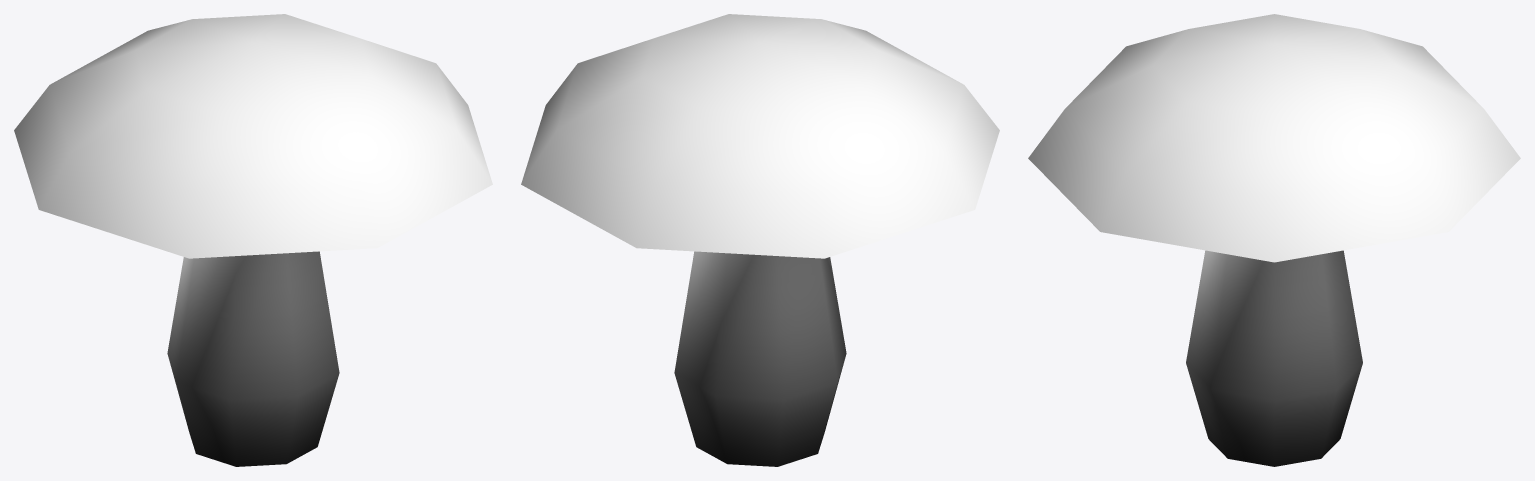
Rendered from MushroomSmallMesh01.fbx.
3 views of the same model, side by side, from view 1: azimuth 30°, elevation 25°; view 2: azimuth 150°, elevation 25°; view 3: azimuth 270°, elevation 25° (orthographic).
Parts seen in each view (by area): view 1: MushroomSmall01; view 2: MushroomSmall01; view 3: MushroomSmall01.
Part boxes in pixels (bbox=[...]): MushroomSmall01: bbox=[14, 14, 492, 466]; MushroomSmall01: bbox=[521, 14, 999, 466]; MushroomSmall01: bbox=[1028, 14, 1520, 466].
Bounding box in the file's own units: 818 × 723 × 818.
1 material, 1 textured.
